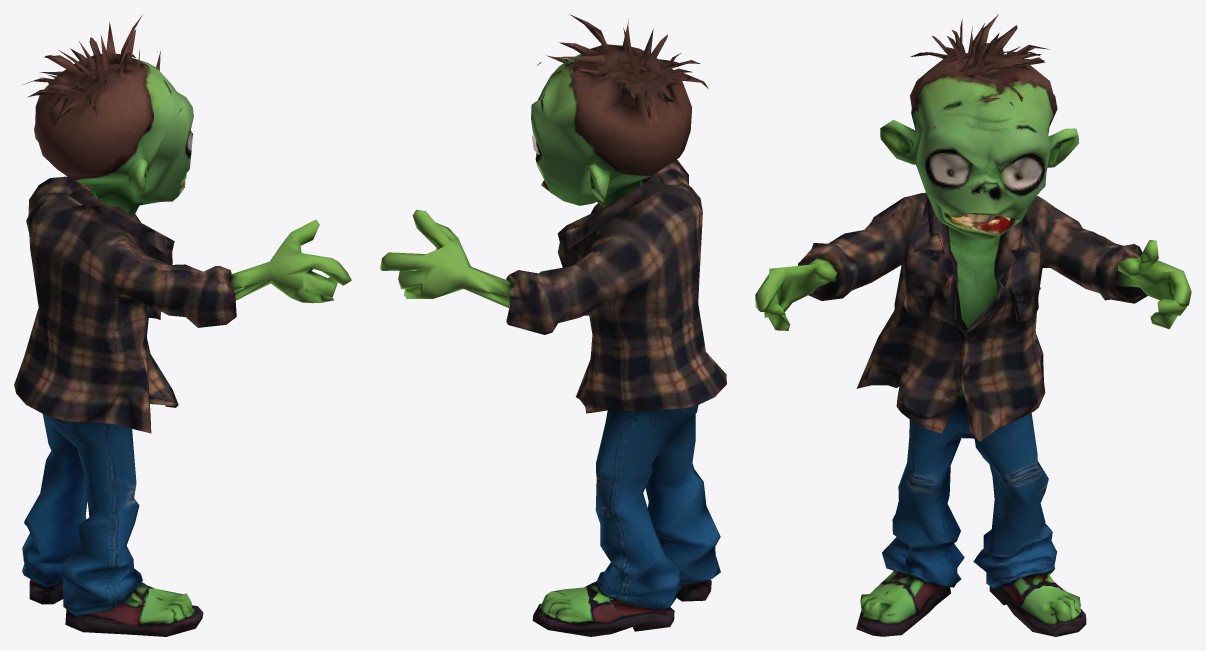
Rendered from zombie.glb.
3 renders of one model, left to right at view 1: azimuth 30°, elevation 25°; view 2: azimuth 150°, elevation 25°; view 3: azimuth 270°, elevation 25°, orthographic. The views are drawn at different scales.
Parts seen in each view (by area): view 1: tripo_node_425341e9-ec09-445e-859f-746a319a3d6b; view 2: tripo_node_425341e9-ec09-445e-859f-746a319a3d6b; view 3: tripo_node_425341e9-ec09-445e-859f-746a319a3d6b.
Part boxes in pixels (x1,y1,x2,y2): tripo_node_425341e9-ec09-445e-859f-746a319a3d6b: [14, 15, 351, 636]; tripo_node_425341e9-ec09-445e-859f-746a319a3d6b: [380, 14, 726, 636]; tripo_node_425341e9-ec09-445e-859f-746a319a3d6b: [755, 14, 1191, 636].
Bounding box in the file's own units: 0.4998 × 1.2 × 0.7894.
1 material, 1 textured.
